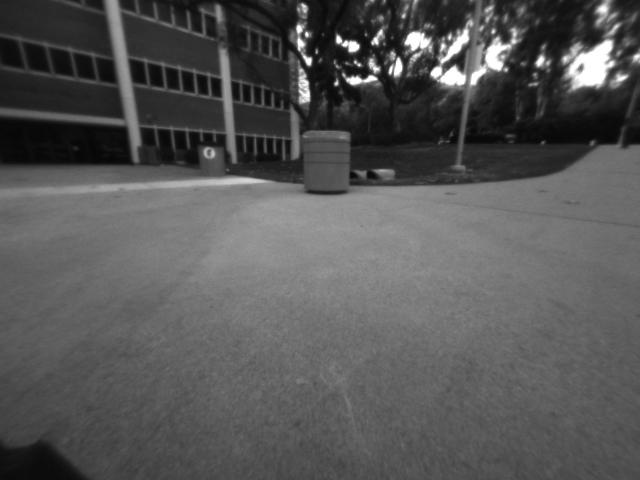trashcan: (292, 122, 353, 200), (191, 134, 230, 181)
